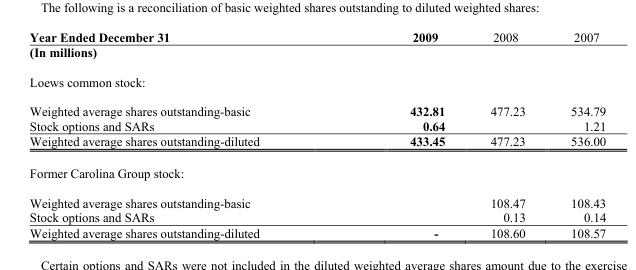table: (28, 29, 605, 239)
table column: (28, 29, 334, 239), (334, 29, 467, 239), (467, 29, 547, 239), (547, 29, 605, 239)
table column header: (28, 29, 605, 44)
table projected row header: (28, 156, 605, 187), (28, 66, 605, 95), (28, 44, 605, 66)
table row: (28, 156, 605, 187), (28, 66, 605, 95), (28, 95, 605, 118), (28, 133, 605, 156), (28, 44, 605, 66), (28, 187, 605, 209), (28, 29, 605, 44), (28, 118, 605, 133), (28, 209, 605, 224), (28, 224, 605, 239)
